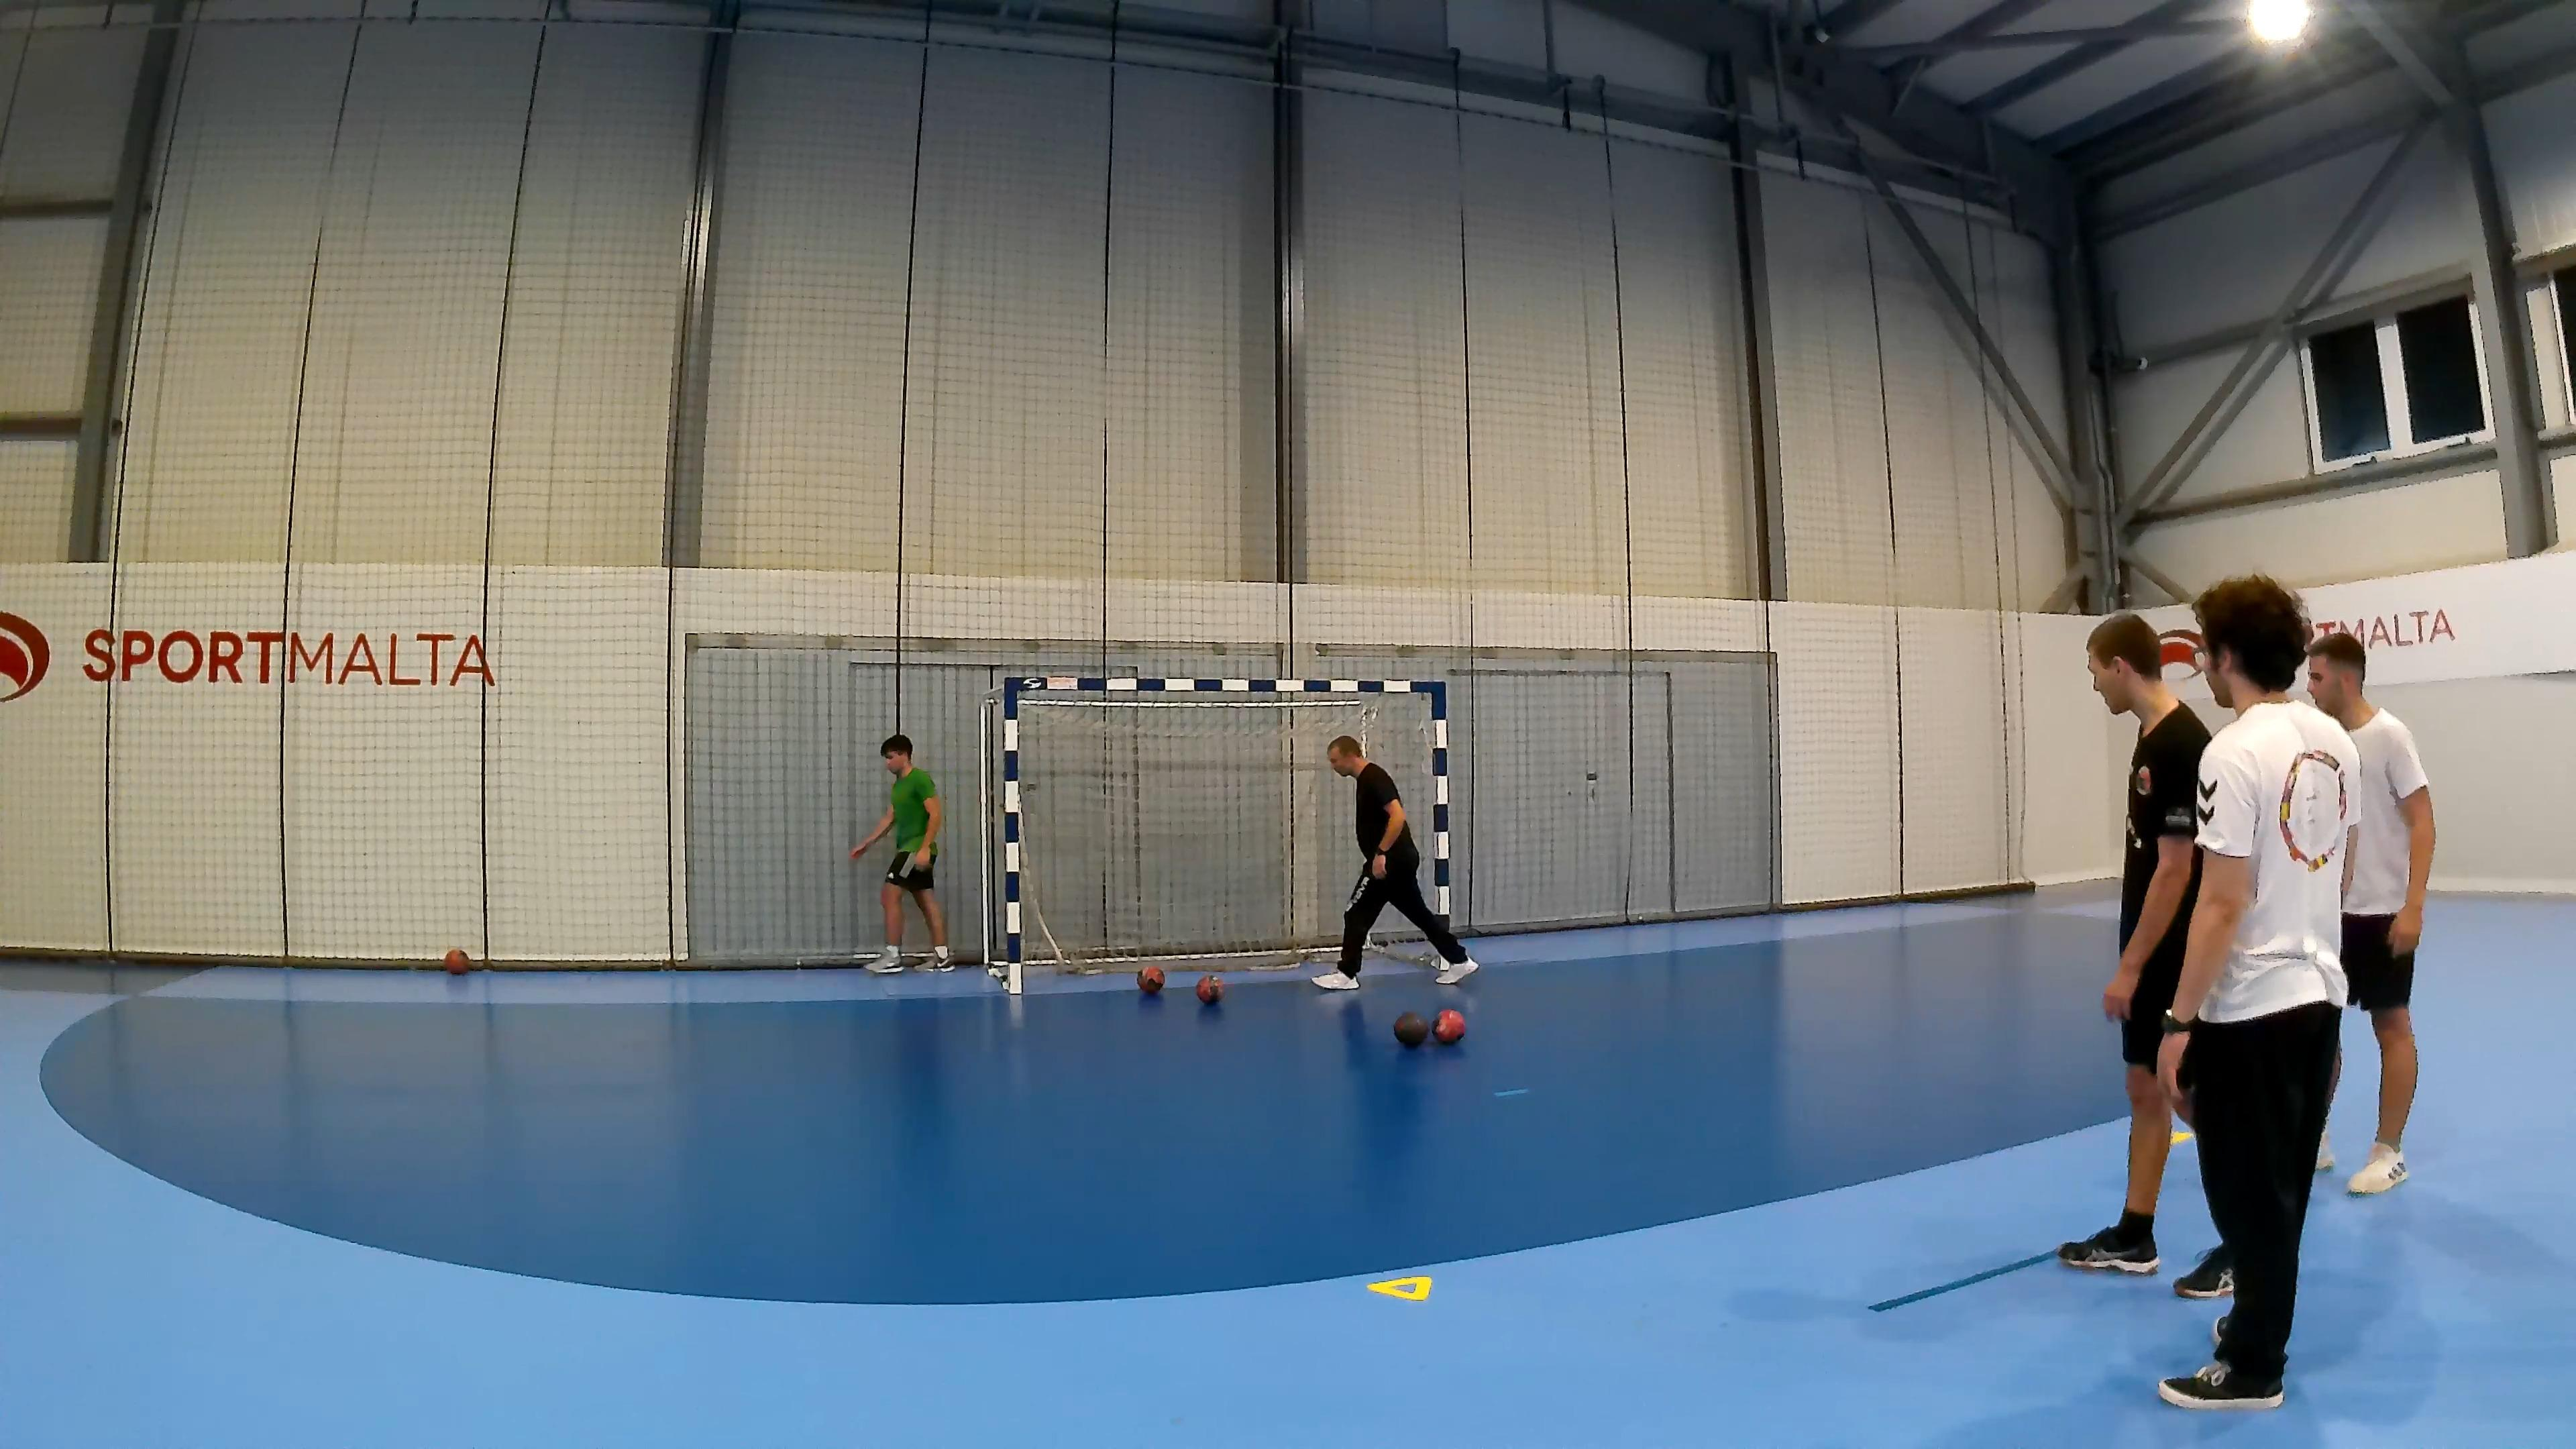handball: (1392, 1010, 1428, 1047), (1433, 1007, 1465, 1042), (1194, 971, 1223, 1003), (1136, 964, 1164, 994), (444, 947, 469, 975)
